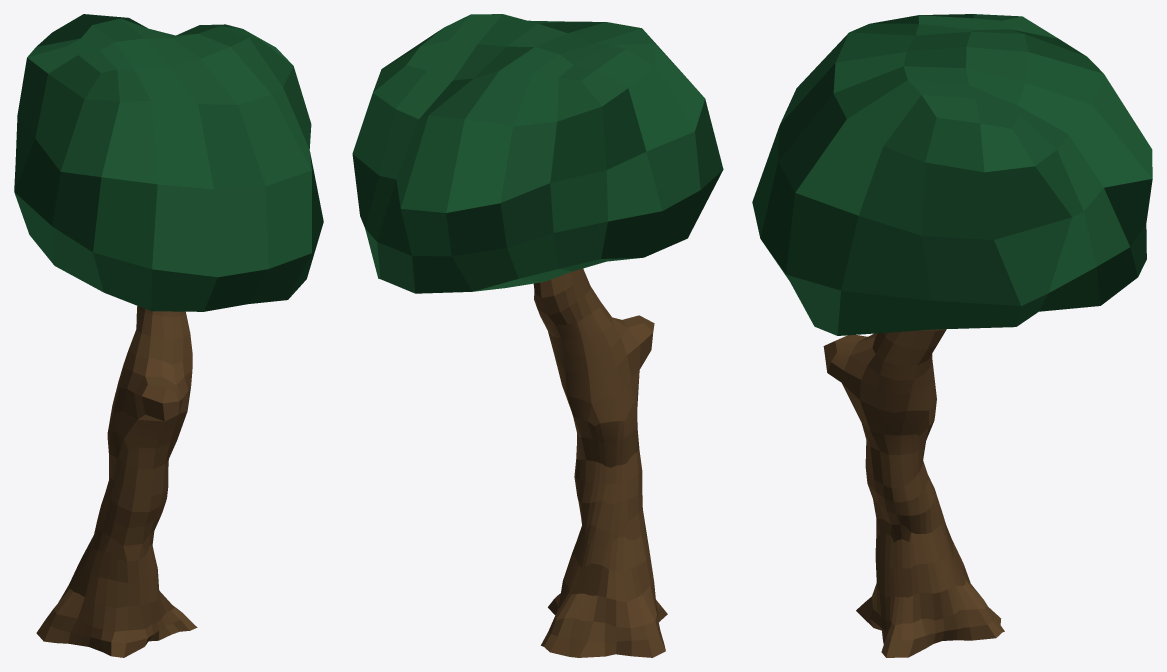
The model's file is arv3.fbx.
3 renders of one model, left to right at view 1: azimuth 30°, elevation 25°; view 2: azimuth 150°, elevation 25°; view 3: azimuth 270°, elevation 25°, orthographic. The views are drawn at different scales.
Parts seen in each view (by area): view 1: arvore3:arvore2; view 2: arvore3:arvore2; view 3: arvore3:arvore2.
Part boxes in pixels (bbox=[...]): arvore3:arvore2: bbox=[14, 14, 323, 657]; arvore3:arvore2: bbox=[352, 14, 723, 657]; arvore3:arvore2: bbox=[752, 14, 1152, 657].
Size of the model in its own units: 26.58 by 52.95 by 31.67.
